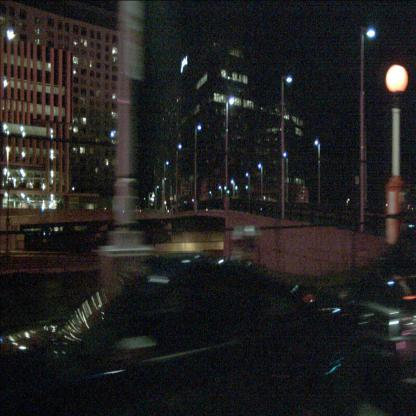vehicle-car: (0, 250, 367, 416), (349, 226, 415, 415)
